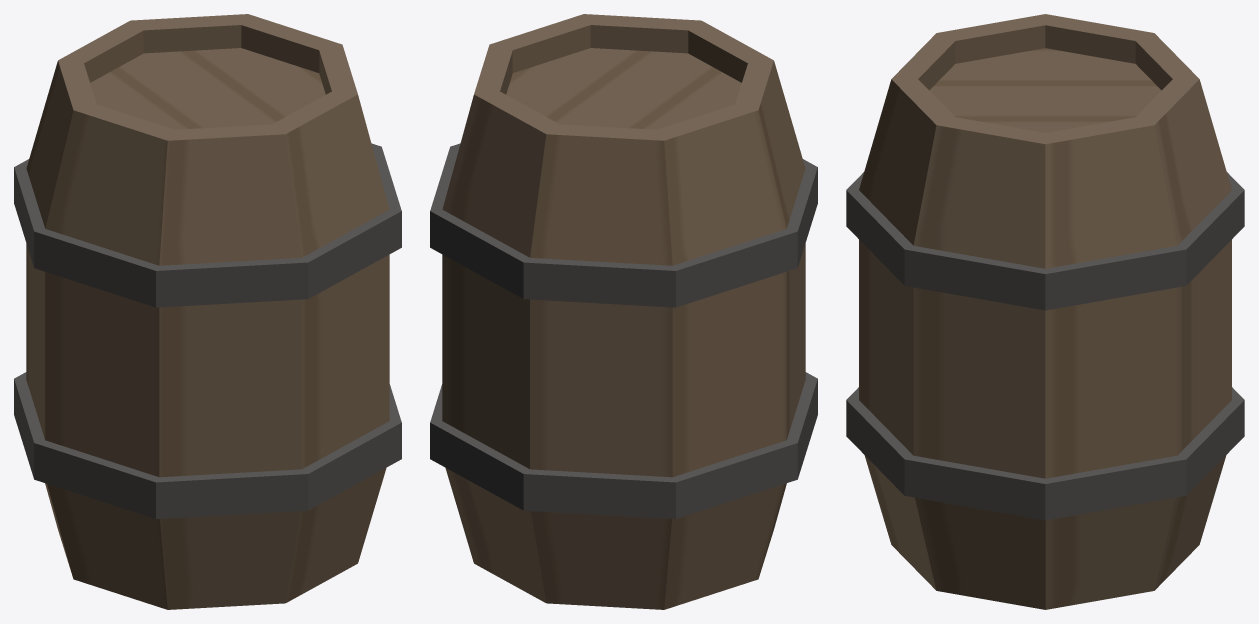
File: SD_Prop_Barrel_01.fbx
The picture shows the model from 3 angles, left to right: view 1: azimuth 30°, elevation 25°; view 2: azimuth 150°, elevation 25°; view 3: azimuth 270°, elevation 25°; orthographic projection.
Visible parts, largest first — view 1: SD_Prop_Barrel_01; view 2: SD_Prop_Barrel_01; view 3: SD_Prop_Barrel_01.
Part boxes in pixels (bbox=[...]): SD_Prop_Barrel_01: bbox=[14, 14, 401, 609]; SD_Prop_Barrel_01: bbox=[430, 14, 817, 609]; SD_Prop_Barrel_01: bbox=[846, 14, 1244, 609].
Bounding box in the file's own units: 1.35 × 1.74 × 1.35.
